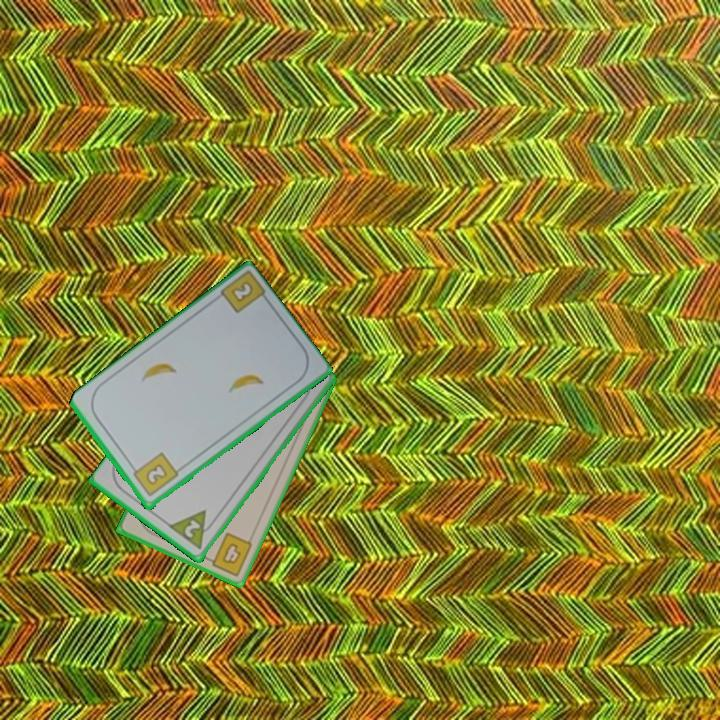2b: (128, 449, 181, 500), (227, 278, 256, 306)
2p: (166, 507, 219, 553)
4b: (202, 529, 255, 579)
